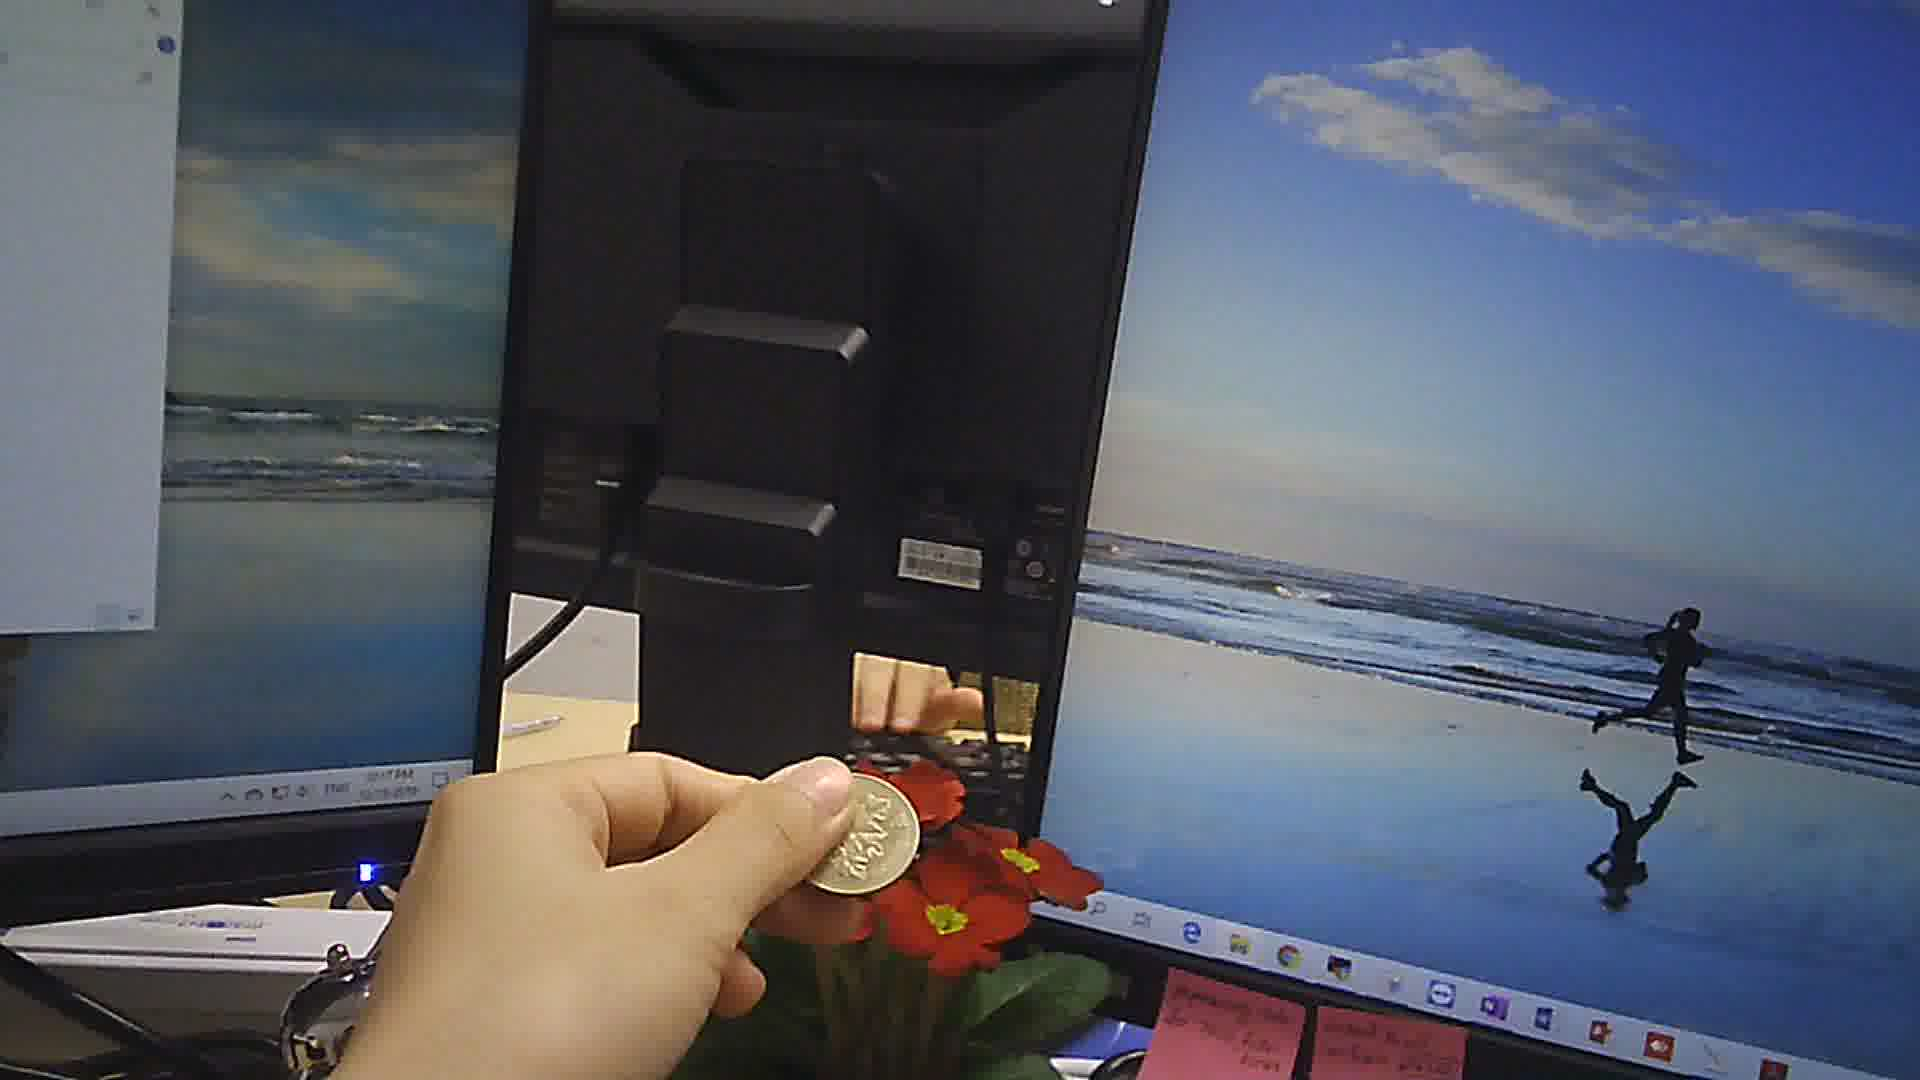500 Yen: (790, 761, 924, 901)
